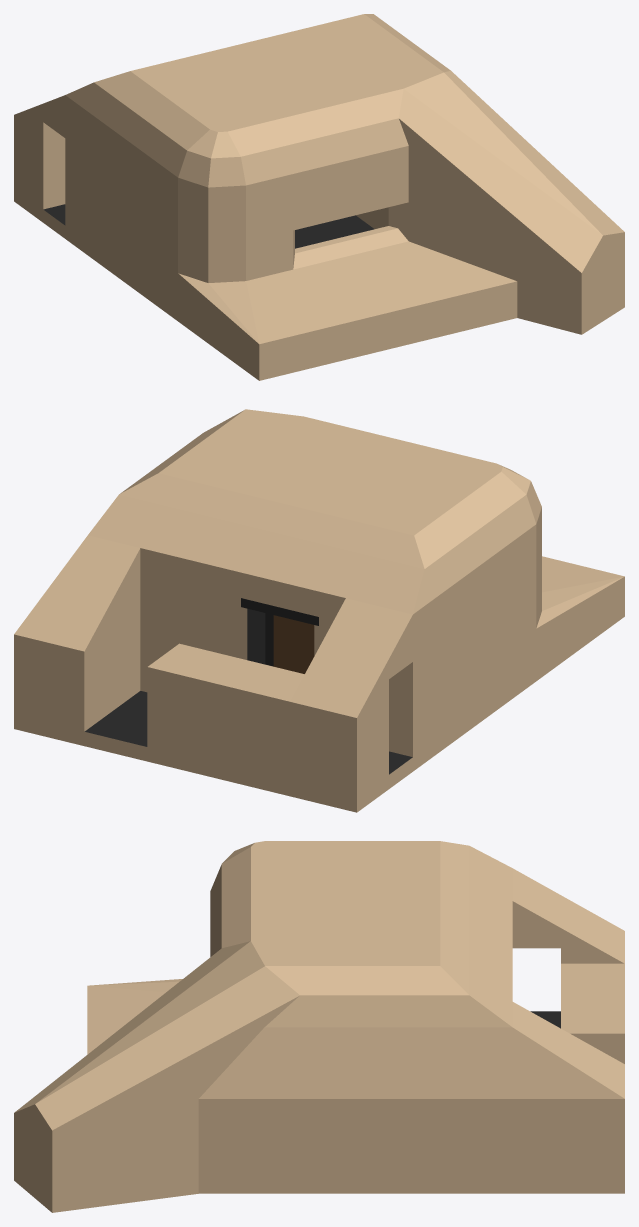
The model's file is bunker-medium.glb.
The picture shows the model from 3 angles, top to bottom: view 1: azimuth 30°, elevation 25°; view 2: azimuth 150°, elevation 25°; view 3: azimuth 270°, elevation 25°; orthographic projection. The views are drawn at different scales.
Visible parts, largest first — view 1: bunker-medium; view 2: bunker-medium; view 3: bunker-medium.
Boxes of the visible parts, left/top/right/bottom form: bunker-medium: left=14, top=14, right=624, bottom=380; bunker-medium: left=14, top=409, right=624, bottom=812; bunker-medium: left=14, top=841, right=624, bottom=1212.
Size of the model in its own units: 8.13 by 4.09 by 11.23.
1 material, 1 textured.
